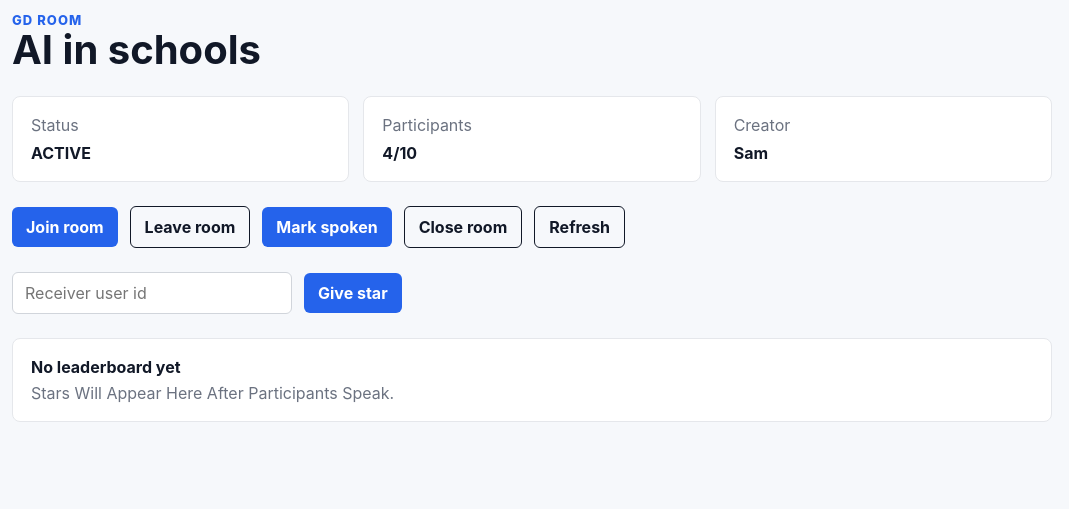
Test: GDRoomPage › joins and leaves rooms through backend-owned participation endpoints
expect the heading "AI in schools" is shown: met, box [12, 25, 261, 74]
Click the button "Join room" at (65, 227), box [12, 207, 118, 247]
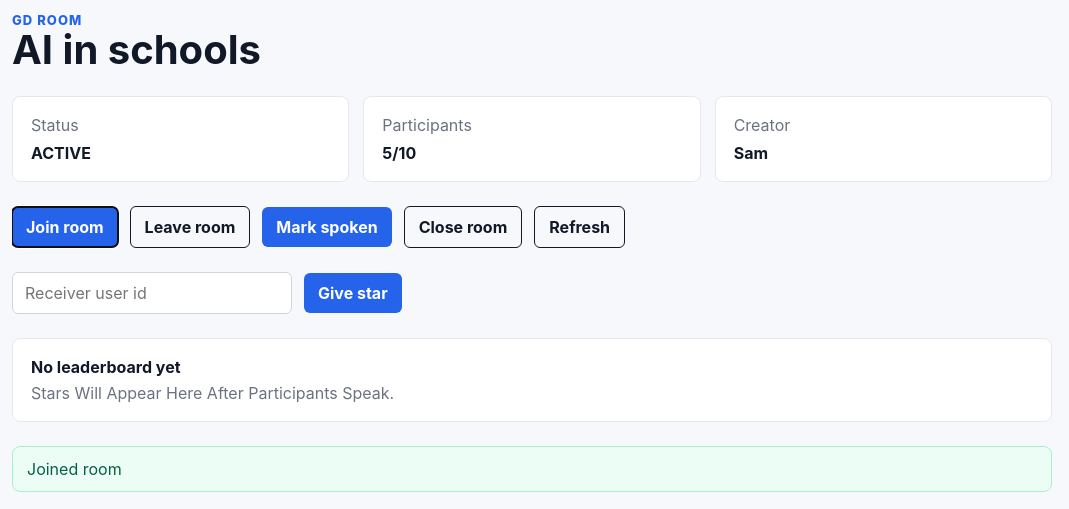
expect the message reads "Joined room": met, box [27, 459, 122, 479]
expect the text "5/10" is shown: met, box [382, 143, 416, 163]
Click the button "Leave room" at (190, 227), box [130, 206, 250, 248]
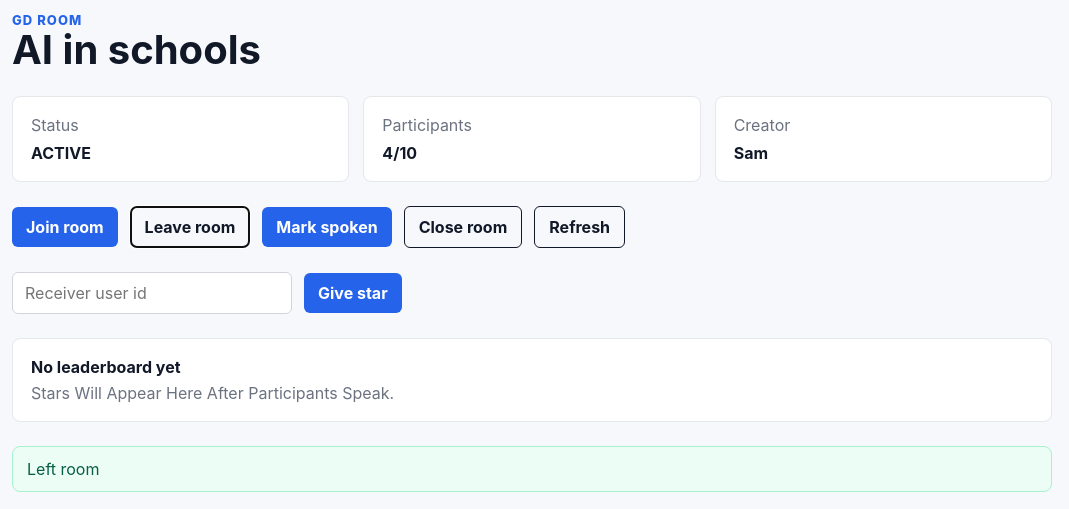
expect the message reads "Left room": met, box [27, 459, 100, 479]
expect the text "4/10" is shown: met, box [382, 143, 417, 163]
